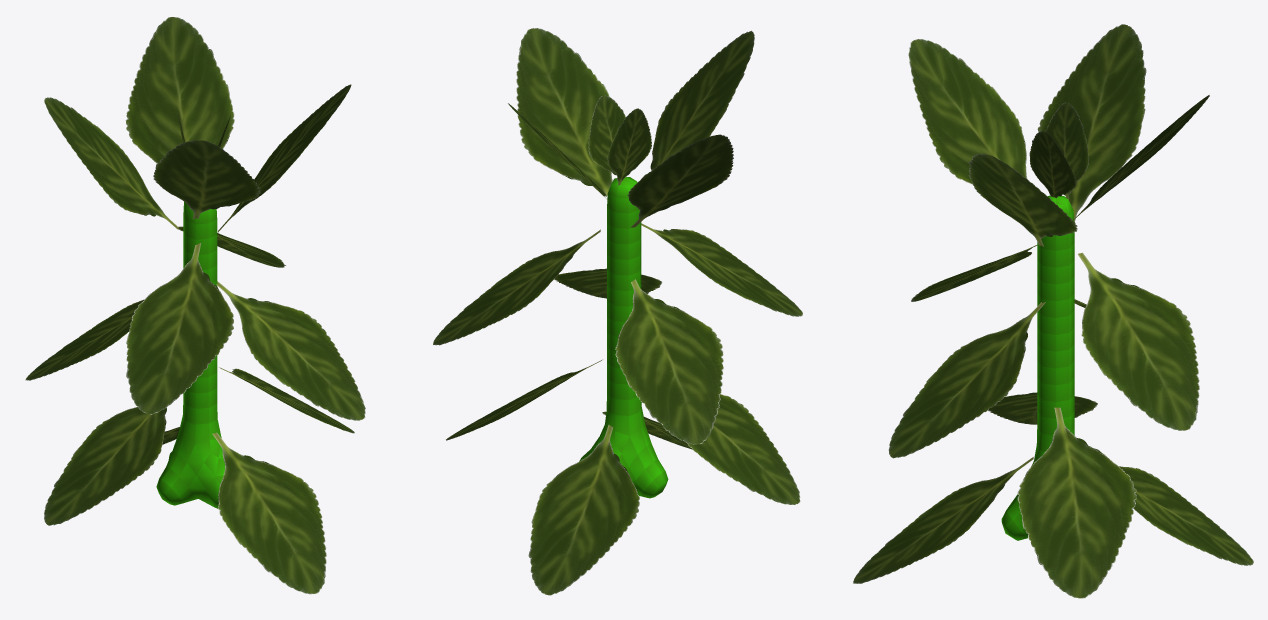
File: boldo.fbx
The picture shows the model from 3 angles, left to right: view 1: azimuth 30°, elevation 25°; view 2: azimuth 150°, elevation 25°; view 3: azimuth 270°, elevation 25°; orthographic projection. The views are drawn at different scales.
Visible parts, largest first — view 1: boldoFolha, boldo; view 2: boldoFolha, boldo; view 3: boldoFolha, boldo.
Boxes of the visible parts, left/top/right/bottom form: boldoFolha: left=25, top=17, right=365, bottom=594; boldo: left=156, top=201, right=224, bottom=509; boldoFolha: left=433, top=28, right=802, bottom=595; boldo: left=579, top=177, right=668, bottom=498; boldoFolha: left=853, top=24, right=1253, bottom=598; boldo: left=1001, top=195, right=1074, bottom=540.
Bounding box in the file's own units: 24.62 × 33 × 23.96.
